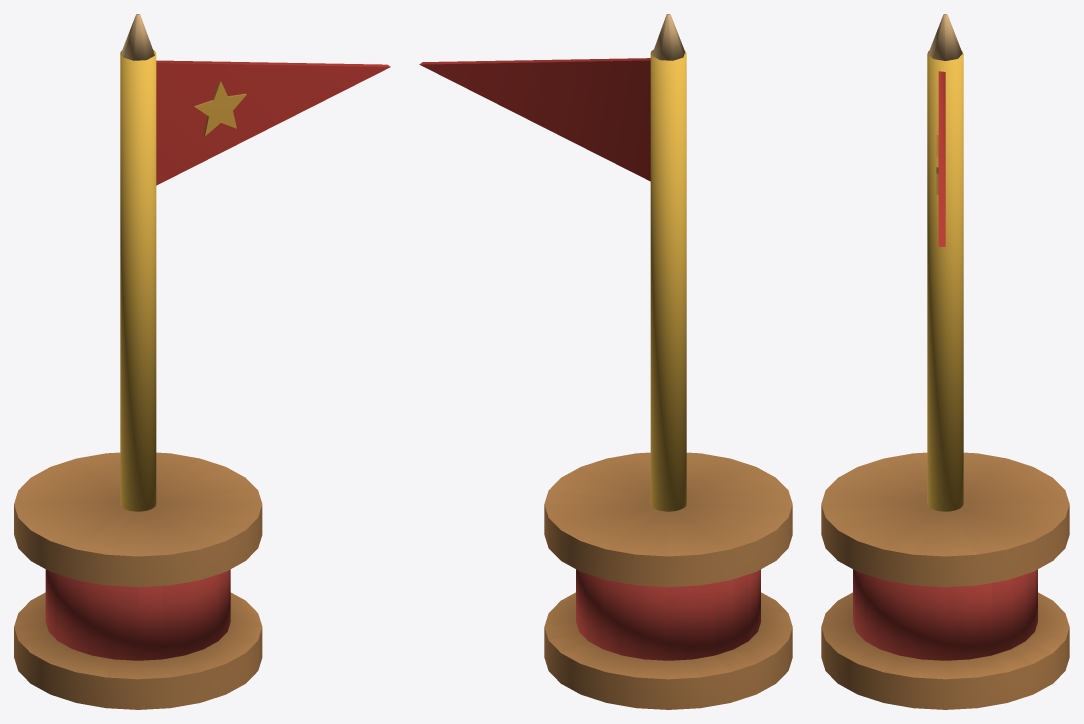
The model's file is den_pennant.glb.
3 renders of one model, left to right at view 1: azimuth 30°, elevation 25°; view 2: azimuth 150°, elevation 25°; view 3: azimuth 270°, elevation 25°, orthographic.
Visible parts, largest first — view 1: den_pennant; view 2: den_pennant; view 3: den_pennant.
Part boxes in pixels (<box>): den_pennant: <box>14,14,390,709</box>; den_pennant: <box>419,14,792,709</box>; den_pennant: <box>821,14,1069,709</box>.
Size of the model in its own units: 3.65 by 6.28 by 2.2.
